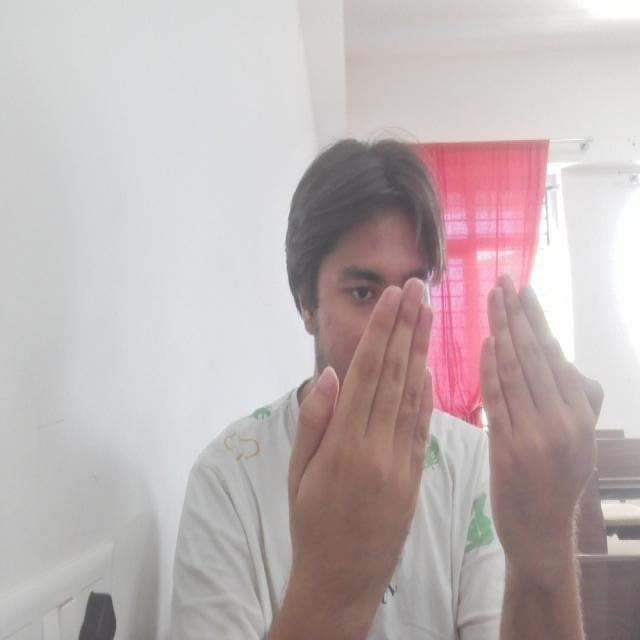thankyou: (284, 270, 608, 610)
